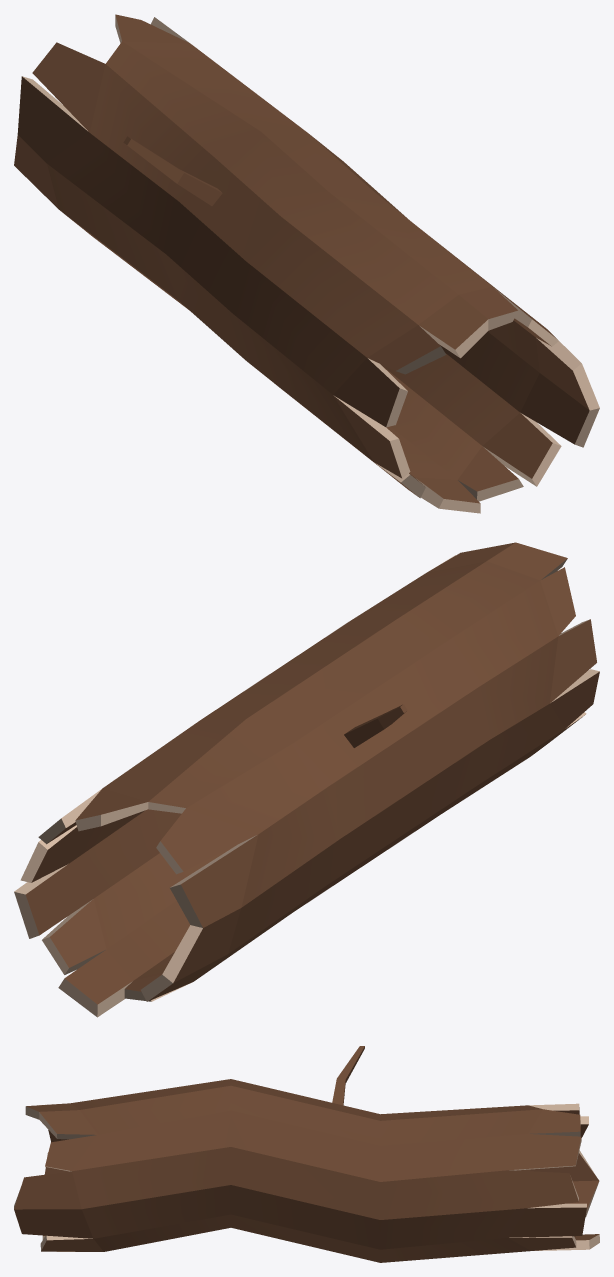
Rendered from PassableLog1.fbx.
3 renders of one model, top to bottom at view 1: azimuth 30°, elevation 25°; view 2: azimuth 150°, elevation 25°; view 3: azimuth 270°, elevation 25°, orthographic. The views are drawn at different scales.
Visible parts, largest first — view 1: PassableLog1; view 2: PassableLog1; view 3: PassableLog1.
Boxes of the visible parts, x1,y1,x2,y2 form: PassableLog1: (14,14,599,513); PassableLog1: (14,542,599,1017); PassableLog1: (14,1046,599,1262).
Bounding box in the file's own units: 25.69 × 23.95 × 78.47.
